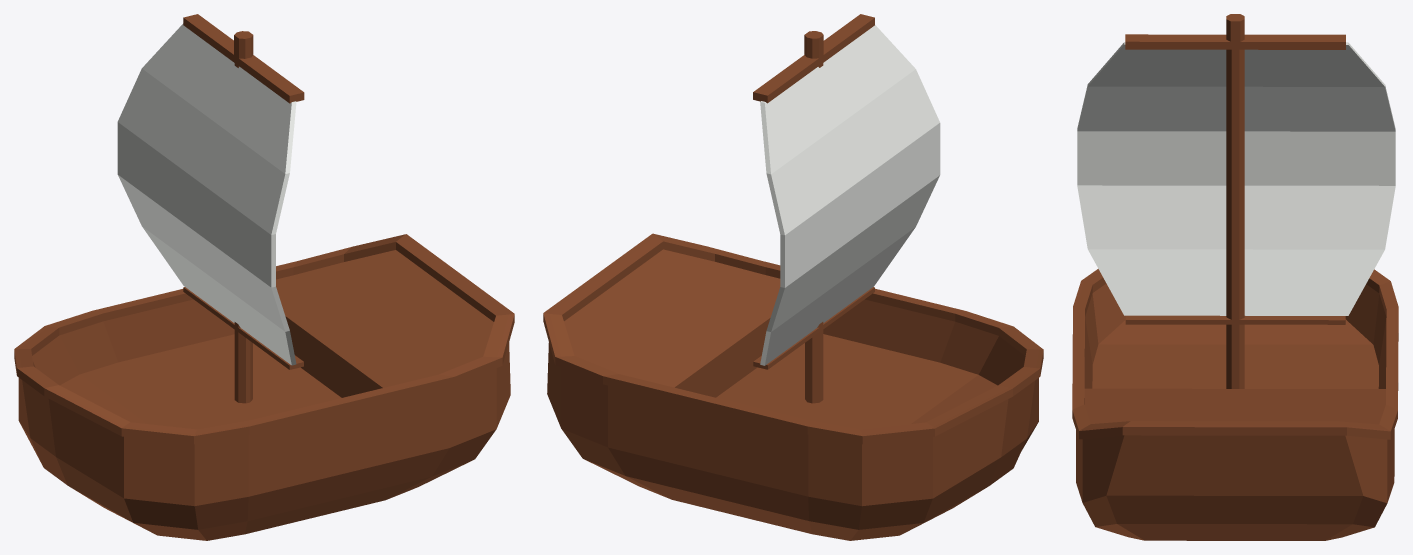
The model's file is ship1.glb.
The picture shows the model from 3 angles, left to right: view 1: azimuth 30°, elevation 25°; view 2: azimuth 150°, elevation 25°; view 3: azimuth 270°, elevation 25°; orthographic projection. The views are drawn at different scales.
Parts seen in each view (by area): view 1: КОРАБЛ; view 2: КОРАБЛ; view 3: КОРАБЛ.
Boxes of the visible parts, bbox=[...] form: КОРАБЛ: bbox=[14, 14, 514, 540]; КОРАБЛ: bbox=[543, 14, 1043, 540]; КОРАБЛ: bbox=[1072, 14, 1398, 540].
Size of the model in its own units: 3.21 by 3.19 by 2.05.
Materials: 1 (1 with a texture image).
